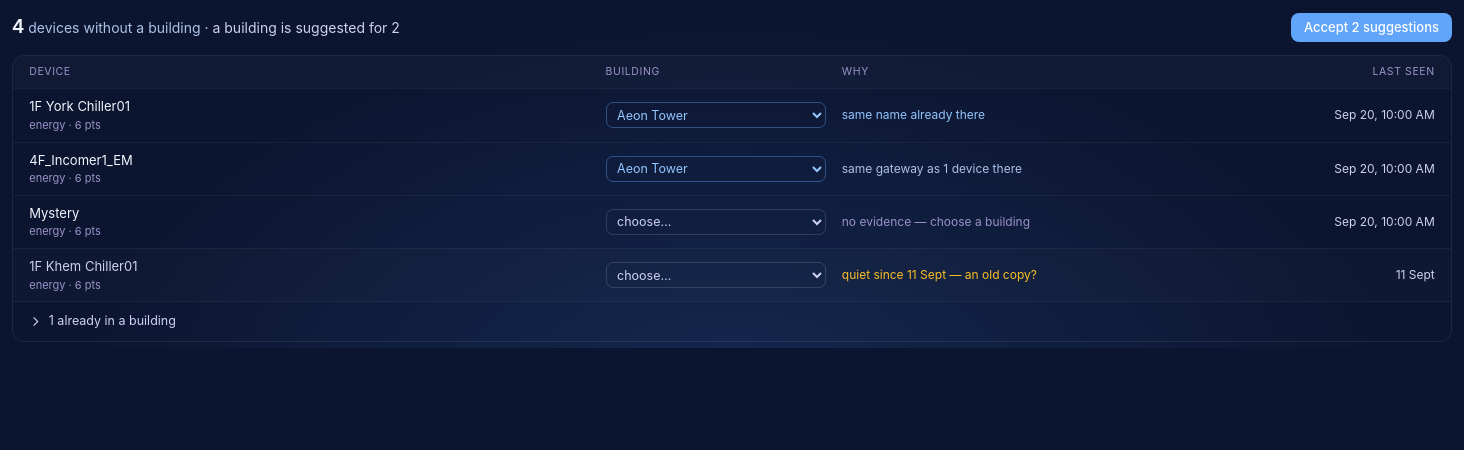
it: saving › moves a placed device the same way, and says when the move dropped a pin
Click the button "1 already in a building". click: x=115, y=320
box: [13,301,1451,341]
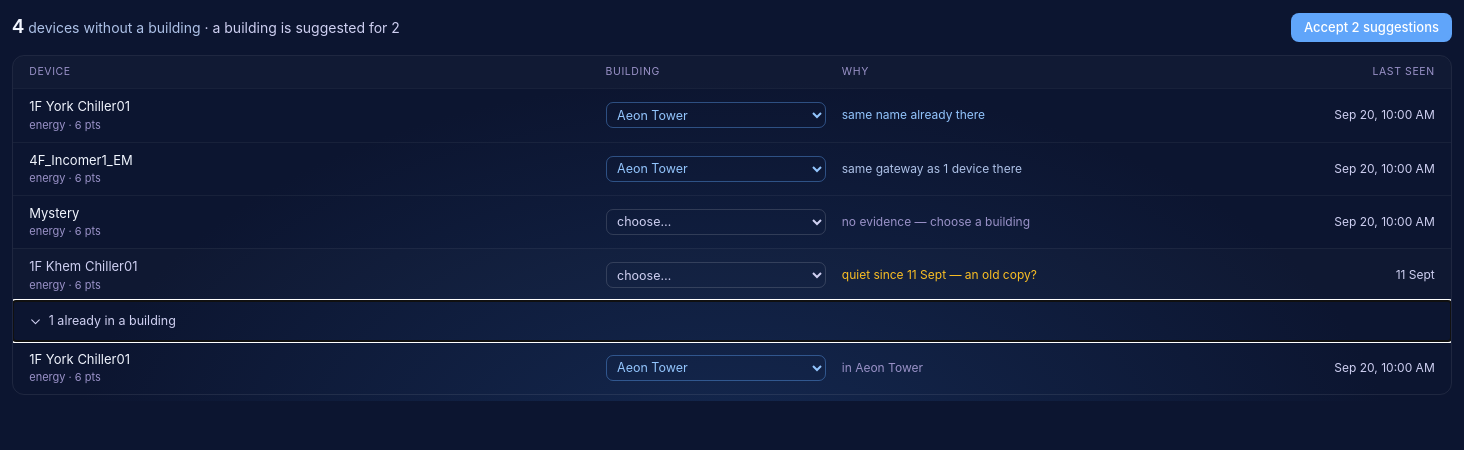
Select "Block 2" in the dropdown named "Building for 1F York Chiller01" next to "in Aeon Tower". click: x=716, y=368
box: [606,355,826,381]
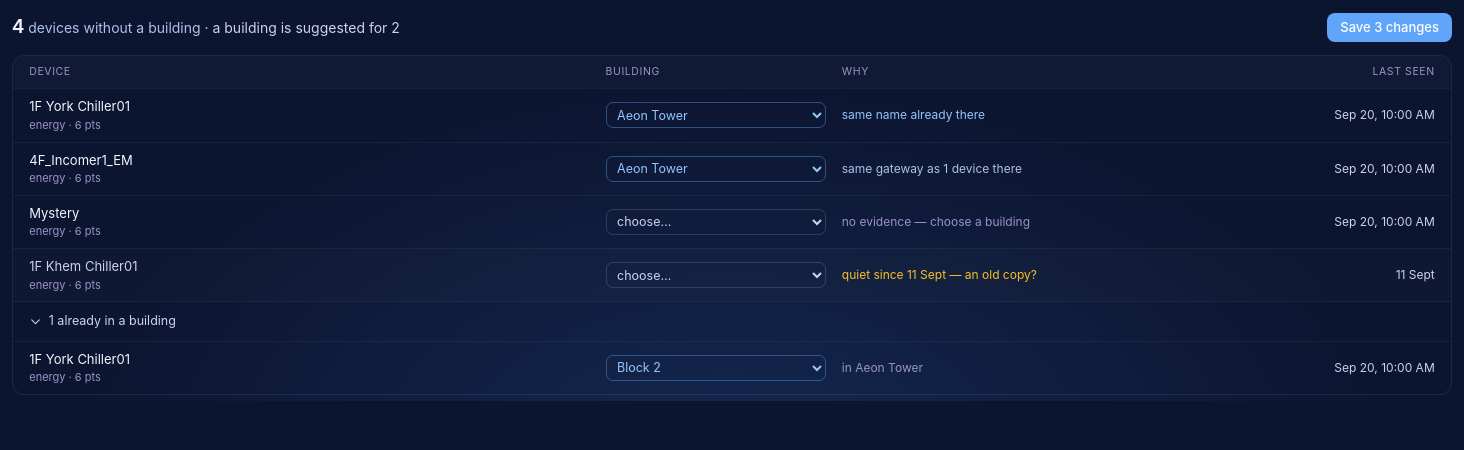
Select "choose…" in the dropdown named "Building for 4F_Incomer1_EM". click: x=716, y=169
box: [606,156,826,182]
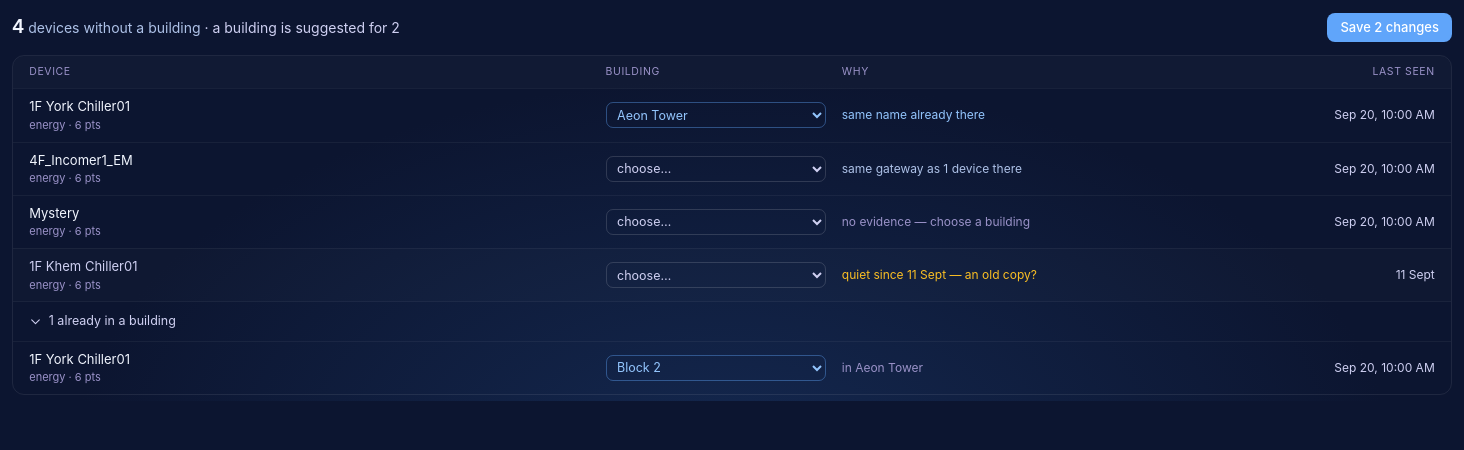
Select "choose…" in the dropdown named "Building for 1F York Chiller01" next to "same name already there". click: x=716, y=115
box: [606,102,826,128]
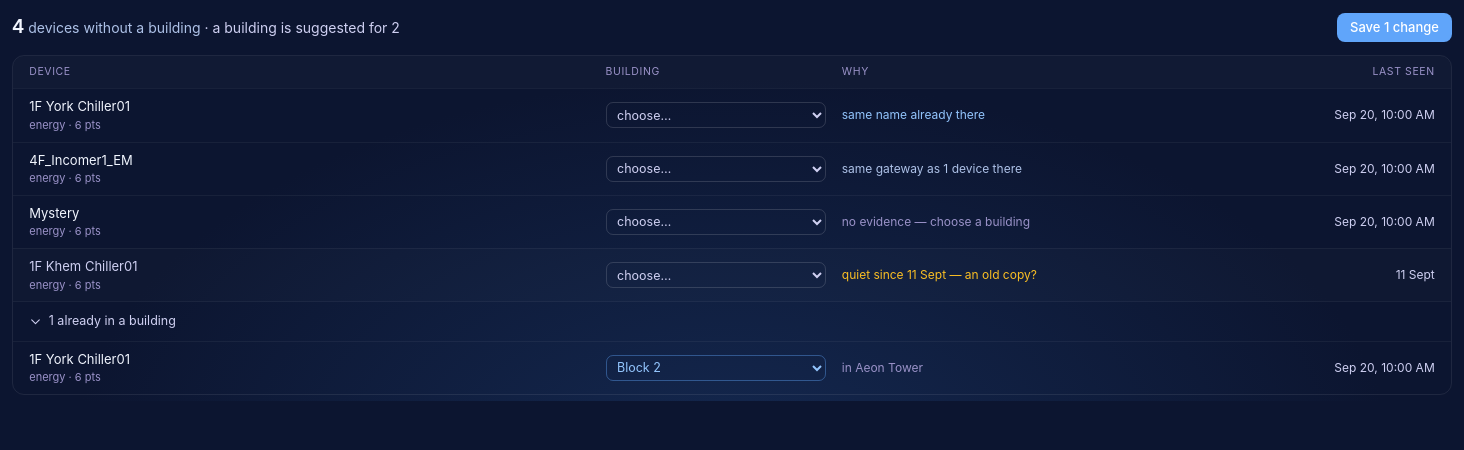
Click the button "Save 1 change". click: x=1394, y=28
box: [1337,13,1452,42]
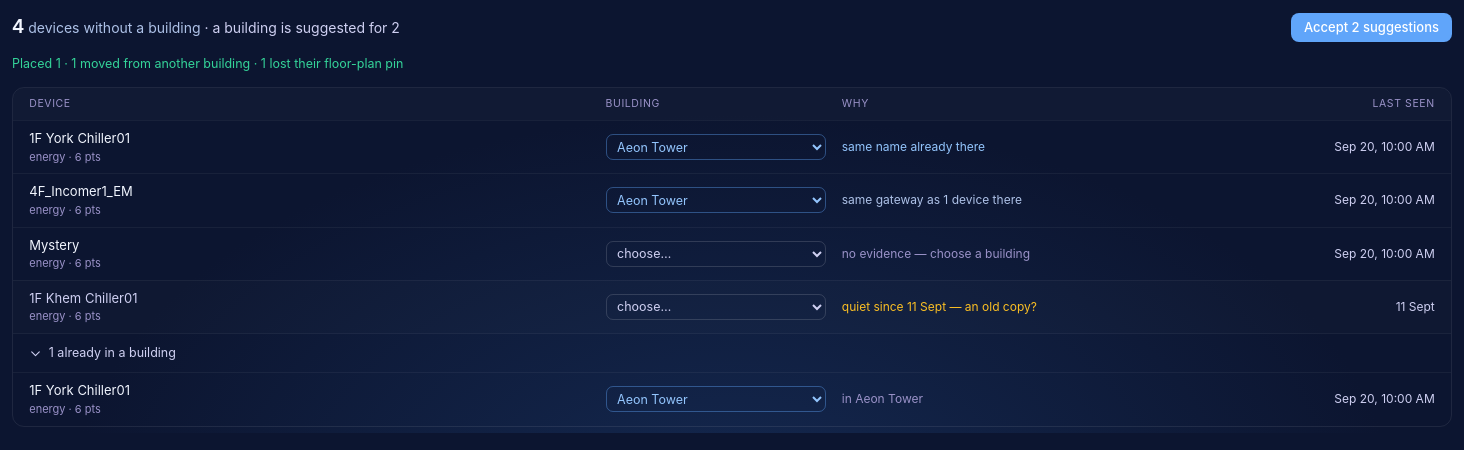
Expected: the text "Placed 1 · 1 moved from another building · 1 lost their floor-plan pin" is shown, [12,56,403,71]
